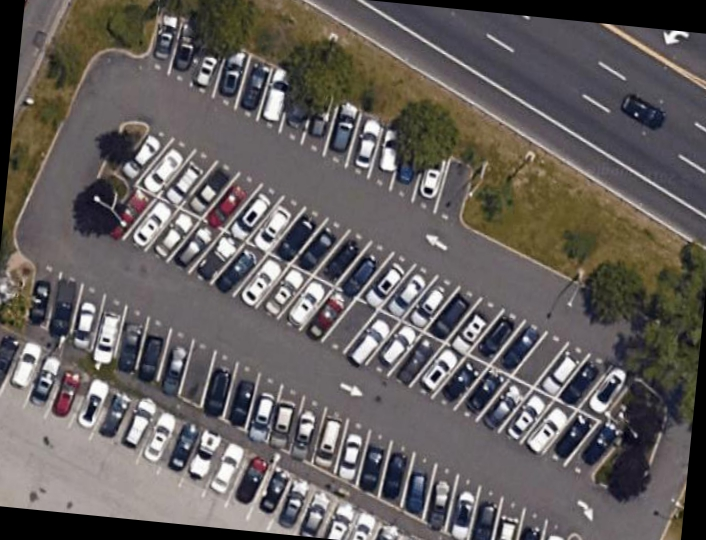parkingspot: (83, 121, 643, 483), (22, 254, 573, 540), (0, 324, 422, 540), (144, 3, 476, 230)
